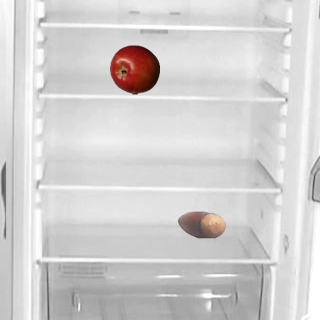Apple Braeburn: (109, 44, 159, 94)
Hazelnut: (176, 199, 226, 249)
